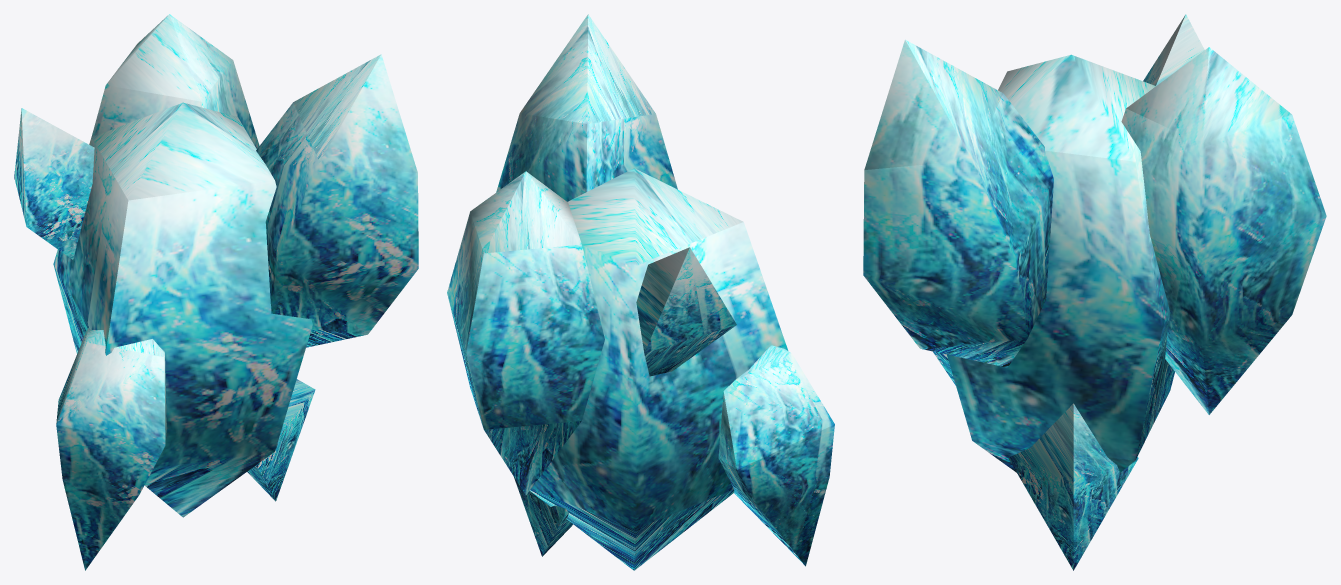
File: Hit_Ice.fbx
3 views of the same model, side by side, from view 1: azimuth 30°, elevation 25°; view 2: azimuth 150°, elevation 25°; view 3: azimuth 270°, elevation 25° (orthographic). The views are drawn at different scales.
Parts seen in each view (by area): view 1: Hit_Ice, Hit_Ice:Layer6, Hit_Ice:Layer4, Hit_Ice:Layer2, Hit_Ice:Layer3, Hit_Ice:Layer5; view 2: Hit_Ice, Hit_Ice:Layer2, Hit_Ice:Layer6, Hit_Ice:Layer4, Hit_Ice:Layer3, Hit_Ice:Layer5; view 3: Hit_Ice, Hit_Ice:Layer6, Hit_Ice:Layer2, Hit_Ice:Layer5, Hit_Ice:Layer3.
Part boxes in pixels (x1,y1,x2,y2): Hit_Ice: [53, 102, 312, 517]; Hit_Ice:Layer6: [256, 54, 418, 347]; Hit_Ice:Layer4: [56, 328, 166, 570]; Hit_Ice:Layer2: [91, 14, 259, 148]; Hit_Ice:Layer3: [14, 108, 94, 259]; Hit_Ice:Layer5: [247, 379, 315, 501]; Hit_Ice: [530, 168, 788, 570]; Hit_Ice:Layer2: [447, 171, 604, 494]; Hit_Ice:Layer6: [496, 14, 677, 201]; Hit_Ice:Layer4: [718, 345, 834, 566]; Hit_Ice:Layer3: [636, 247, 736, 376]; Hit_Ice:Layer5: [514, 477, 572, 556]; Hit_Ice: [947, 54, 1174, 472]; Hit_Ice:Layer6: [863, 39, 1053, 367]; Hit_Ice:Layer2: [1121, 47, 1326, 414]; Hit_Ice:Layer5: [1008, 403, 1138, 570]; Hit_Ice:Layer3: [1143, 14, 1204, 85].
Bounding box in the file's own units: 270 × 378 × 290.
